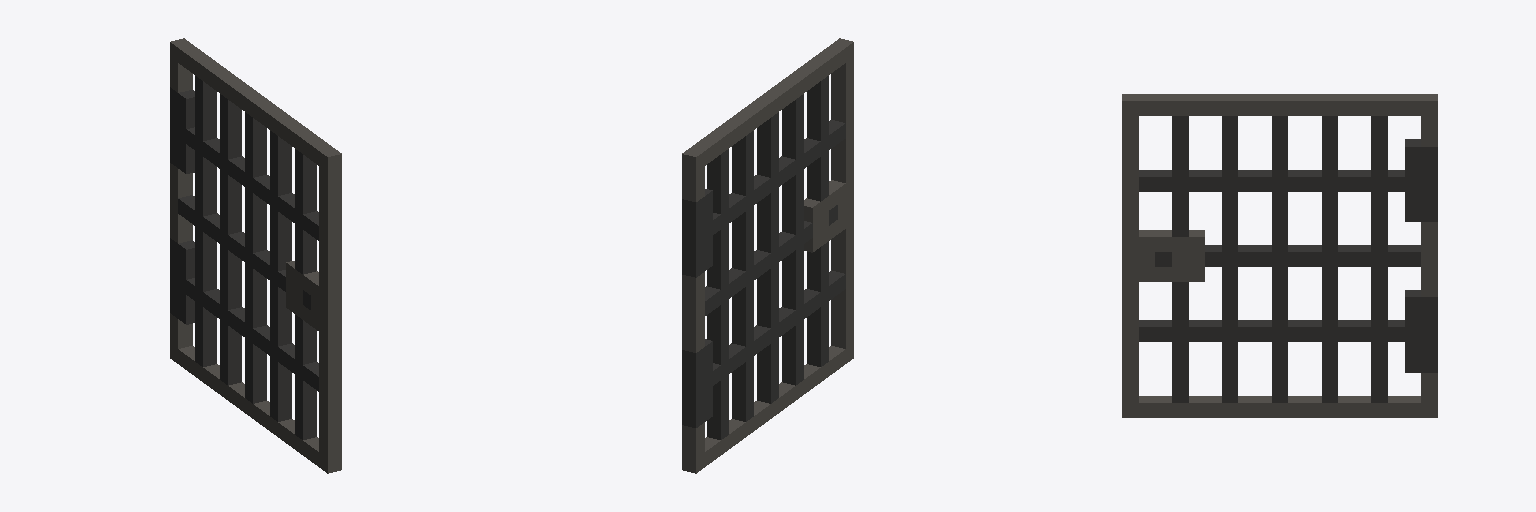
3 renders of one model, left to right at view 1: azimuth 30°, elevation 25°; view 2: azimuth 150°, elevation 25°; view 3: azimuth 270°, elevation 25°, orthographic.
Visible parts, largest first — view 1: object 1; view 2: object 1; view 3: object 1.
Boxes of the visible parts, x1=… form: object 1: x1=170, y1=38, x2=341, y2=473; object 1: x1=682, y1=38, x2=853, y2=473; object 1: x1=1122, y1=94, x2=1437, y2=417.
Bounding box in the file's own units: 0.1 × 2.1 × 1.9.
1 materials, 1 textured.